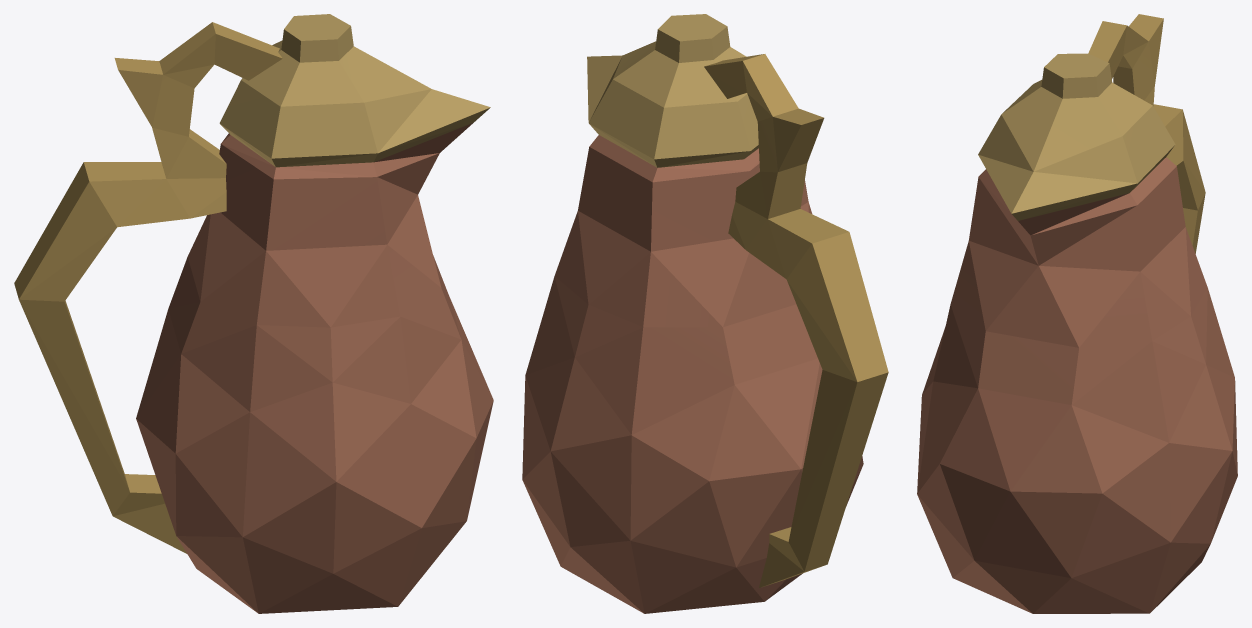
File: fahrulMule.fbx
The picture shows the model from 3 angles, left to right: view 1: azimuth 30°, elevation 25°; view 2: azimuth 150°, elevation 25°; view 3: azimuth 270°, elevation 25°; orthographic projection. The views are drawn at different scales.
Parts seen in each view (by area): view 1: fahrulMule; view 2: fahrulMule; view 3: fahrulMule.
Part boxes in pixels (x1,y1,x2,y2): fahrulMule: (14, 14, 493, 613); fahrulMule: (522, 14, 888, 613); fahrulMule: (917, 14, 1237, 613).
Bounding box in the file's own units: 1.24 × 1.6 × 0.9132.
